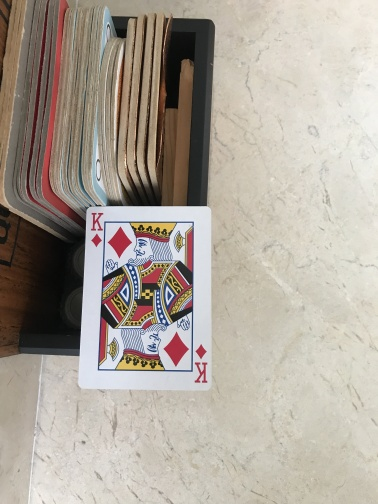king: (76, 207, 214, 390)
